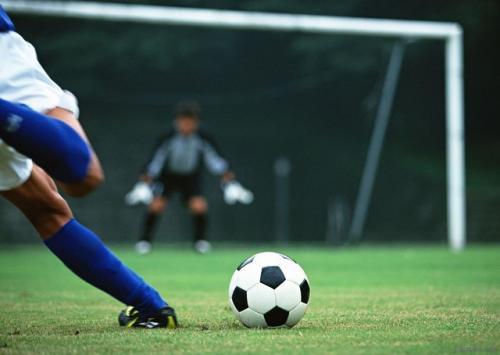football: (229, 251, 311, 329)
